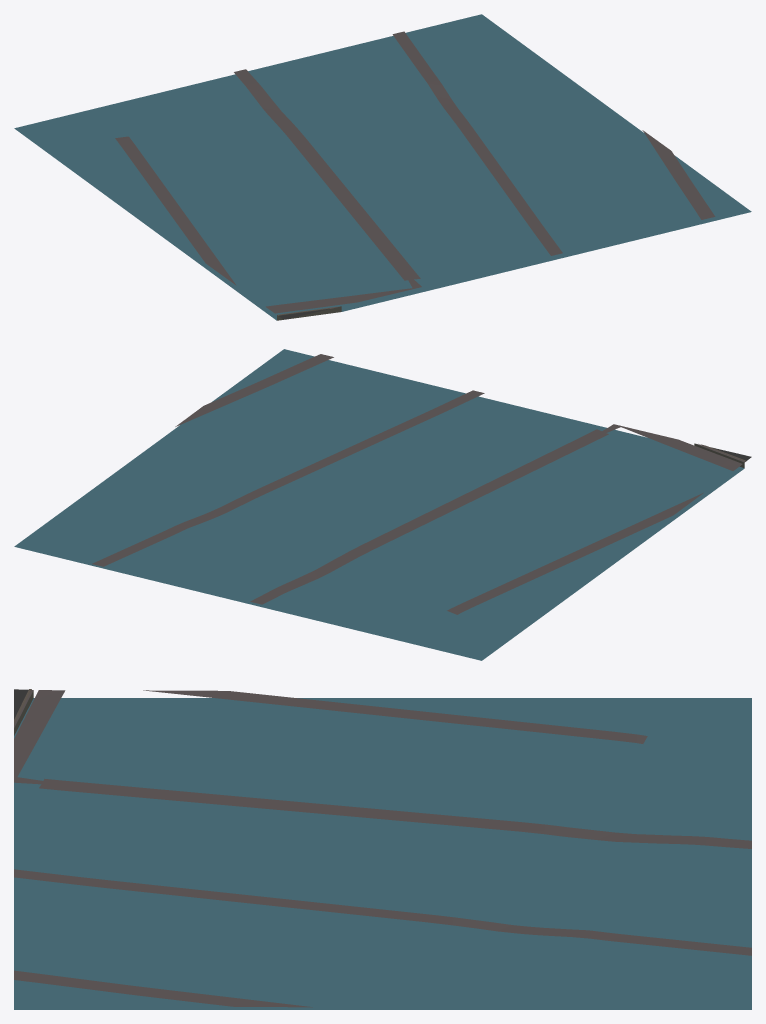
The picture shows the model from 3 angles, top to bottom: view 1: azimuth 30°, elevation 25°; view 2: azimuth 150°, elevation 25°; view 3: azimuth 270°, elevation 25°; orthographic projection. The views are drawn at different scales.
Visible parts, largest first — view 1: c_p05_m05; view 2: c_p05_m05; view 3: c_p05_m05.
Part boxes in pixels (x1,y1,x2,y2): c_p05_m05: [14, 14, 751, 320]; c_p05_m05: [14, 349, 751, 660]; c_p05_m05: [14, 689, 751, 1009].
Bounding box in the file's own units: 128 × 1.71 × 128.
